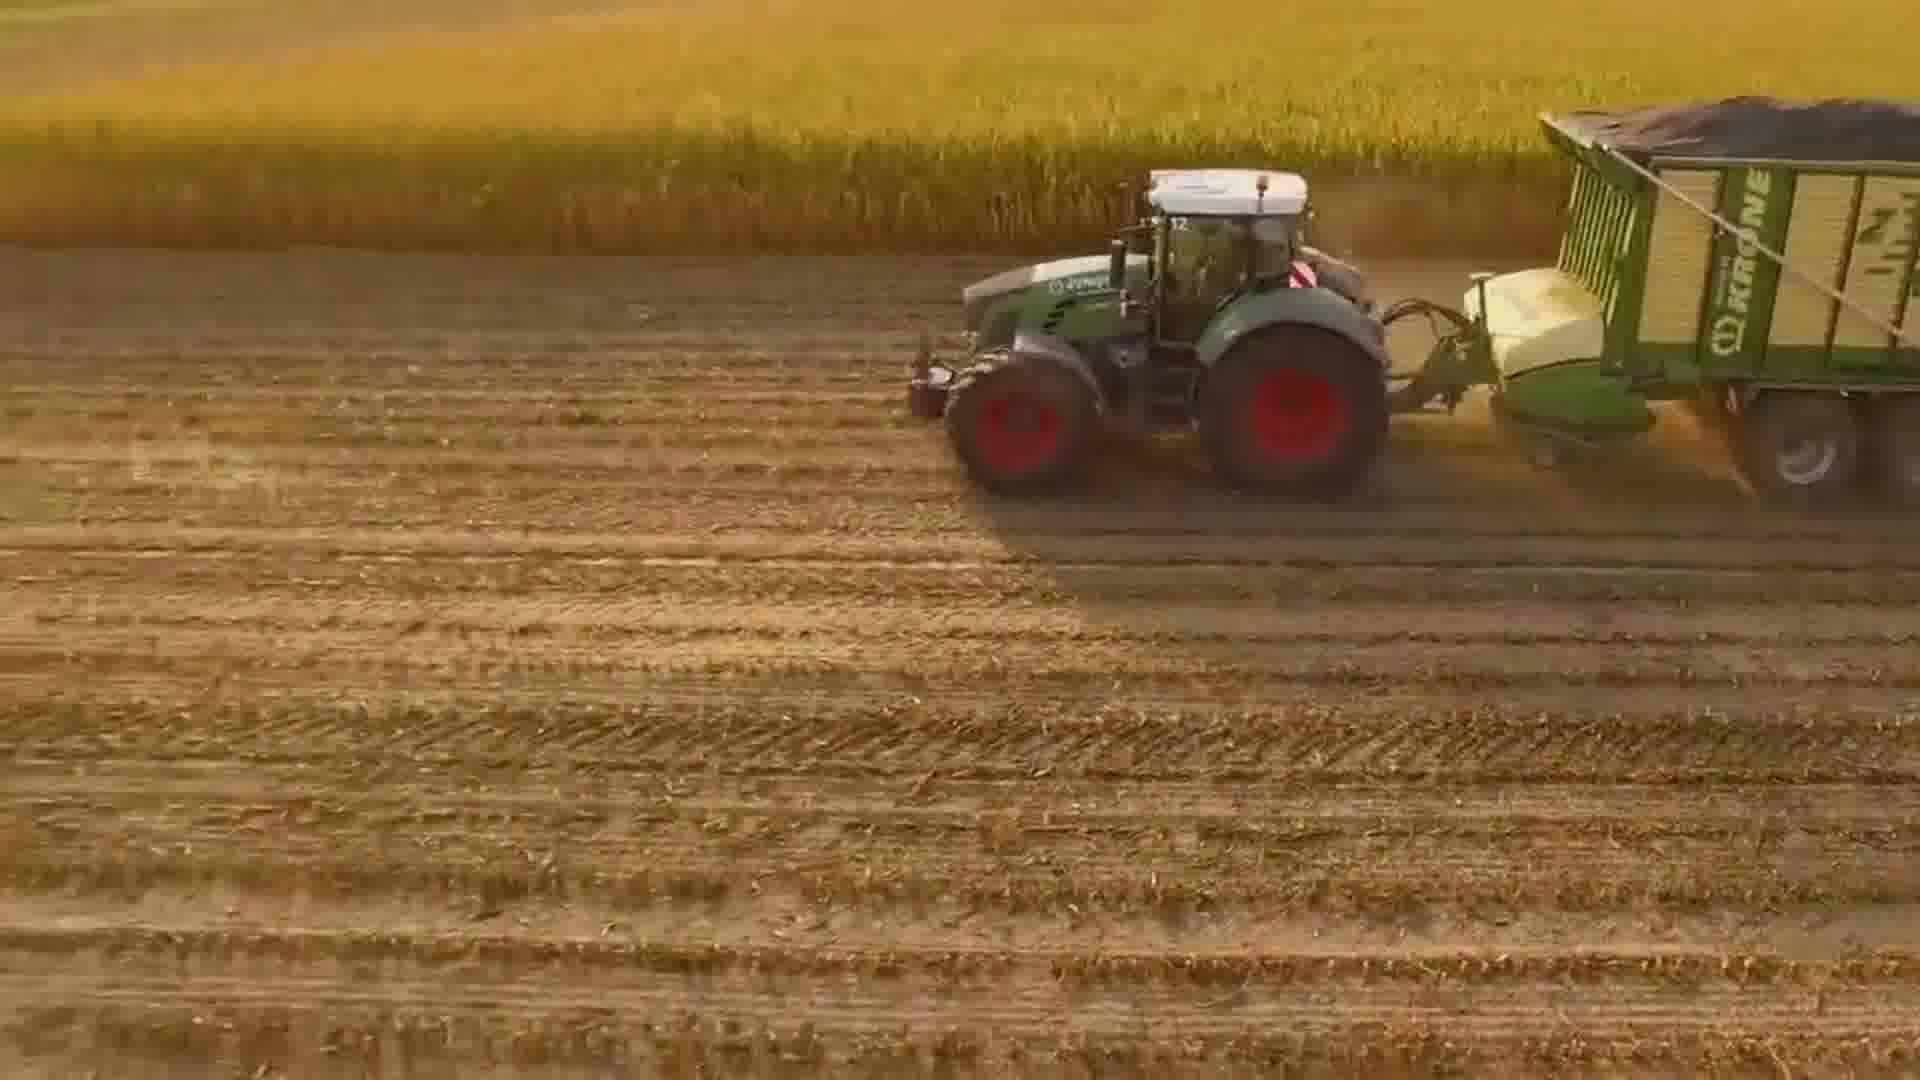tractor: (878, 153, 1406, 504)
trailer: (1443, 75, 1920, 514)
